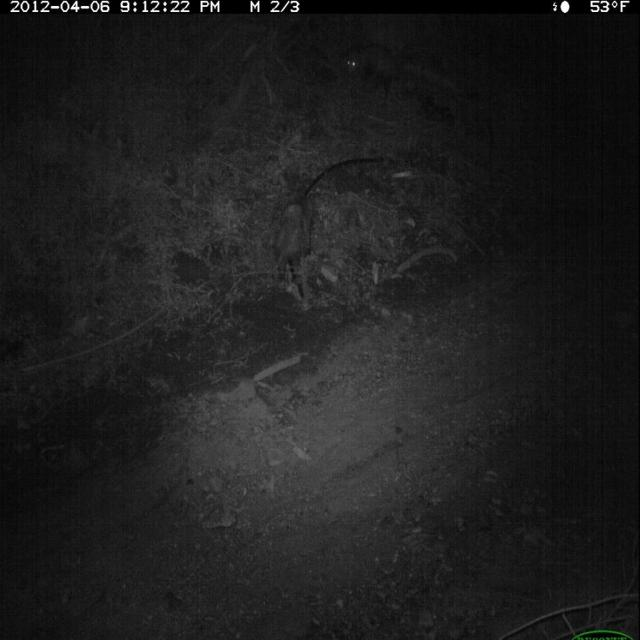opossum: (254, 195, 313, 309), (343, 41, 406, 100)
